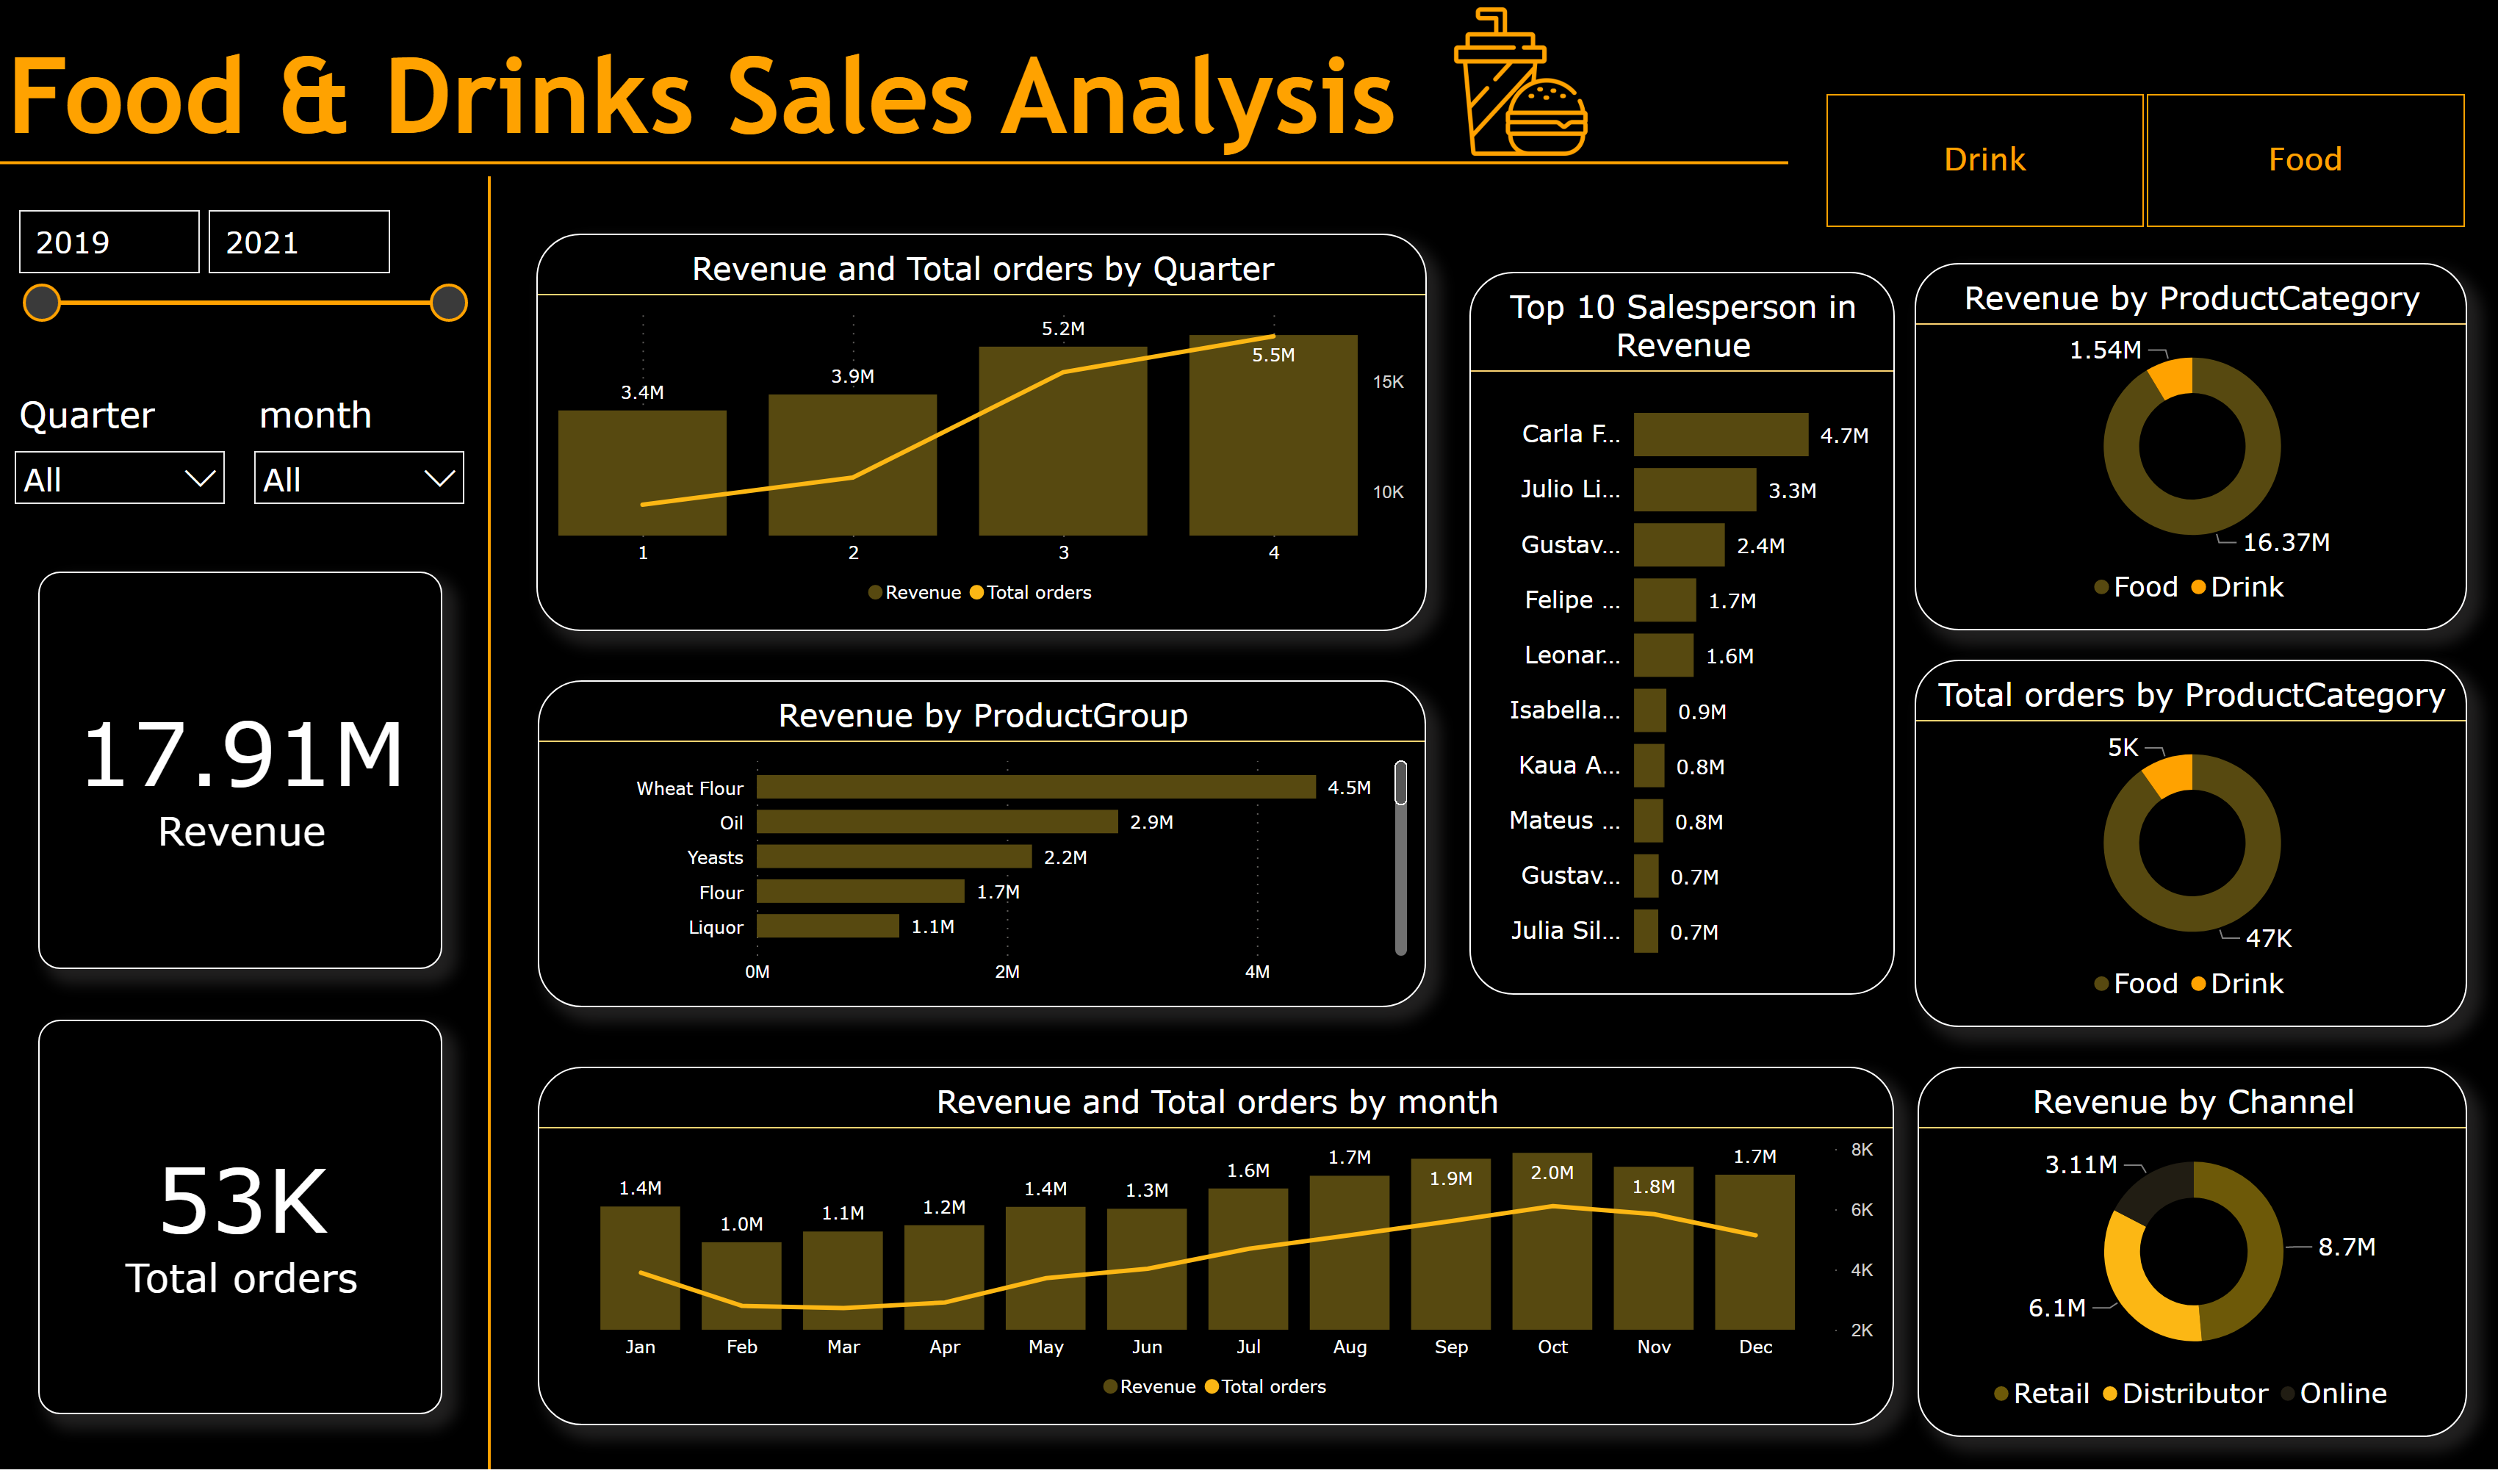

The dashboard page shown, as its layout file describes it:
{"tool":"powerbi","page":{"name":"Page 1","canvas":[1700,1000],"ordinal":0},"visuals":[{"type":"card","fields":{"Values":["measures (2).Revenue"]},"box":[25.8,388.8,275,270.7],"z":0},{"type":"card","fields":{"Values":["measures (2).Total orders"]},"box":[25.8,693.9,275,268.5],"z":1000},{"type":"donutChart","fields":{"Category":["Sales.Channel"],"Y":["measures (2).Sum of sales"]},"box":[1305.1,726.4,374,252],"z":2000},{"type":"donutChart","fields":{"Category":["Product.ProductCategory"],"Y":["measures (2).Sum of sales"]},"box":[1303.1,179.1,376,250],"z":3000},{"type":"slicer","fields":{"Values":["master_date.year"]},"box":[0,133.2,326.5,105.3],"z":4000},{"type":"donutChart","fields":{"Category":["Product.ProductCategory"],"Y":["measures (2).Total orders"]},"box":[1303.1,448.8,376,250],"z":5000},{"type":"textbox","box":[0,0,2000.8,132.3],"z":6000},{"type":"shape","box":[326,120.5,14.2,1079.5],"z":7000},{"type":"slicer","fields":{"Values":["master_date.month_name"]},"box":[163,262.2,163,99.2],"z":8000},{"type":"slicer","fields":{"Values":["master_date.Quarter"]},"box":[0,262.2,163,99.2],"z":9000},{"type":"lineStackedColumnComboChart","fields":{"Y":["measures (2).Sum of sales"],"Y2":["measures (2).Total orders"],"Category":["master_date.Quarter"]},"box":[365.2,159,605.8,270.7],"z":10000},{"type":"barChart","fields":{"Category":["Product.ProductGroup"],"Y":["measures (2).Revenue"]},"box":[366.1,462.6,604.3,222.4],"z":11000},{"type":"image","box":[845.7,0,377.9,111],"z":12000},{"type":"lineStackedColumnComboChart","title":"Revenue and Total orders by month","fields":{"Category":["master_date.month_name"],"Y":["measures (2).Revenue"],"Y2":["measures (2).Total orders"]},"box":[366.1,726.4,923.2,244.1],"z":13000},{"type":"clusteredBarChart","title":"Top 10 Salesperson in Revenue","fields":{"Category":["Sales.Salesperson"],"Y":["measures (2).Revenue"]},"box":[1000,185,289.4,492.1],"z":14000},{"type":"shape","box":[0,102.4,1224.4,17.7],"z":15000},{"type":"slicer","fields":{"Values":["Product.ProductCategory"]},"box":[1216.5,57.1,484.2,104.3],"z":16000}]}

Visuals, with their boxes in screenshot pixels (x1, y1, x2, y2), scaled from the page's 1700x1000 canvas onto the 2498x1484 screenshot:
card - measures (2).Revenue: (x1=38, y1=577, x2=442, y2=979)
card - measures (2).Total orders: (x1=38, y1=1030, x2=442, y2=1428)
donutChart - Sales.Channel x measures (2).Sum of sales: (x1=1918, y1=1078, x2=2467, y2=1452)
donutChart - Product.ProductCategory x measures (2).Sum of sales: (x1=1915, y1=266, x2=2467, y2=637)
slicer - master_date.year: (x1=0, y1=198, x2=480, y2=354)
donutChart - Product.ProductCategory x measures (2).Total orders: (x1=1915, y1=666, x2=2467, y2=1037)
textbox: (x1=0, y1=0, x2=2497, y2=196)
shape: (x1=479, y1=179, x2=500, y2=1483)
slicer - master_date.month_name: (x1=240, y1=389, x2=479, y2=536)
slicer - master_date.Quarter: (x1=0, y1=389, x2=240, y2=536)
lineStackedColumnComboChart - measures (2).Sum of sales x measures (2).Total orders: (x1=536, y1=236, x2=1427, y2=638)
barChart - Product.ProductGroup x measures (2).Revenue: (x1=538, y1=686, x2=1426, y2=1017)
image: (x1=1242, y1=0, x2=1798, y2=165)
"Revenue and Total orders by month" lineStackedColumnComboChart: (x1=538, y1=1078, x2=1895, y2=1440)
"Top 10 Salesperson in Revenue" clusteredBarChart: (x1=1469, y1=275, x2=1895, y2=1005)
shape: (x1=0, y1=152, x2=1799, y2=179)
slicer - Product.ProductCategory: (x1=1788, y1=84, x2=2497, y2=239)
